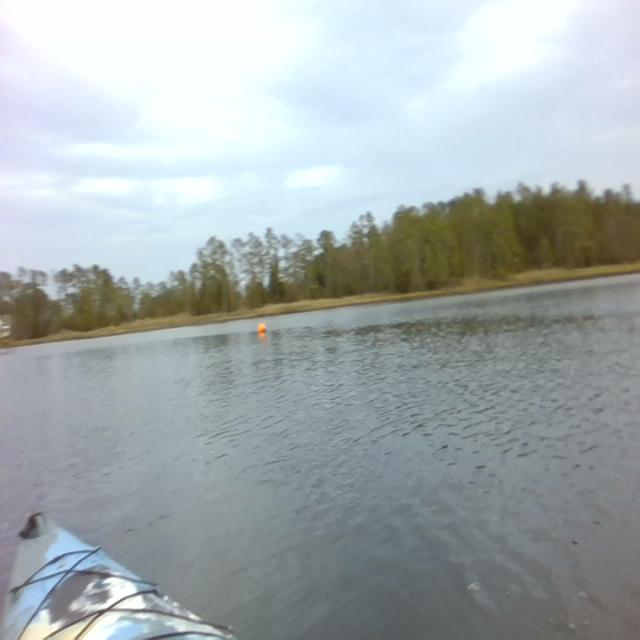Buoy: (257, 315, 267, 338)
